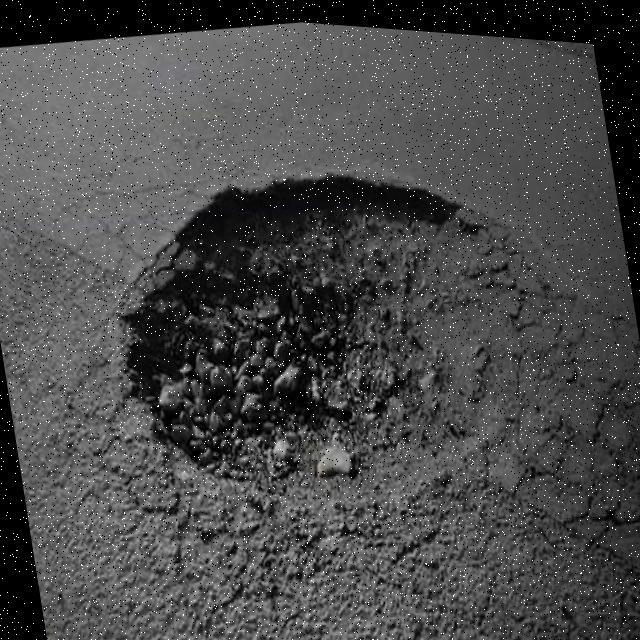pothole: (90, 127, 490, 522)
